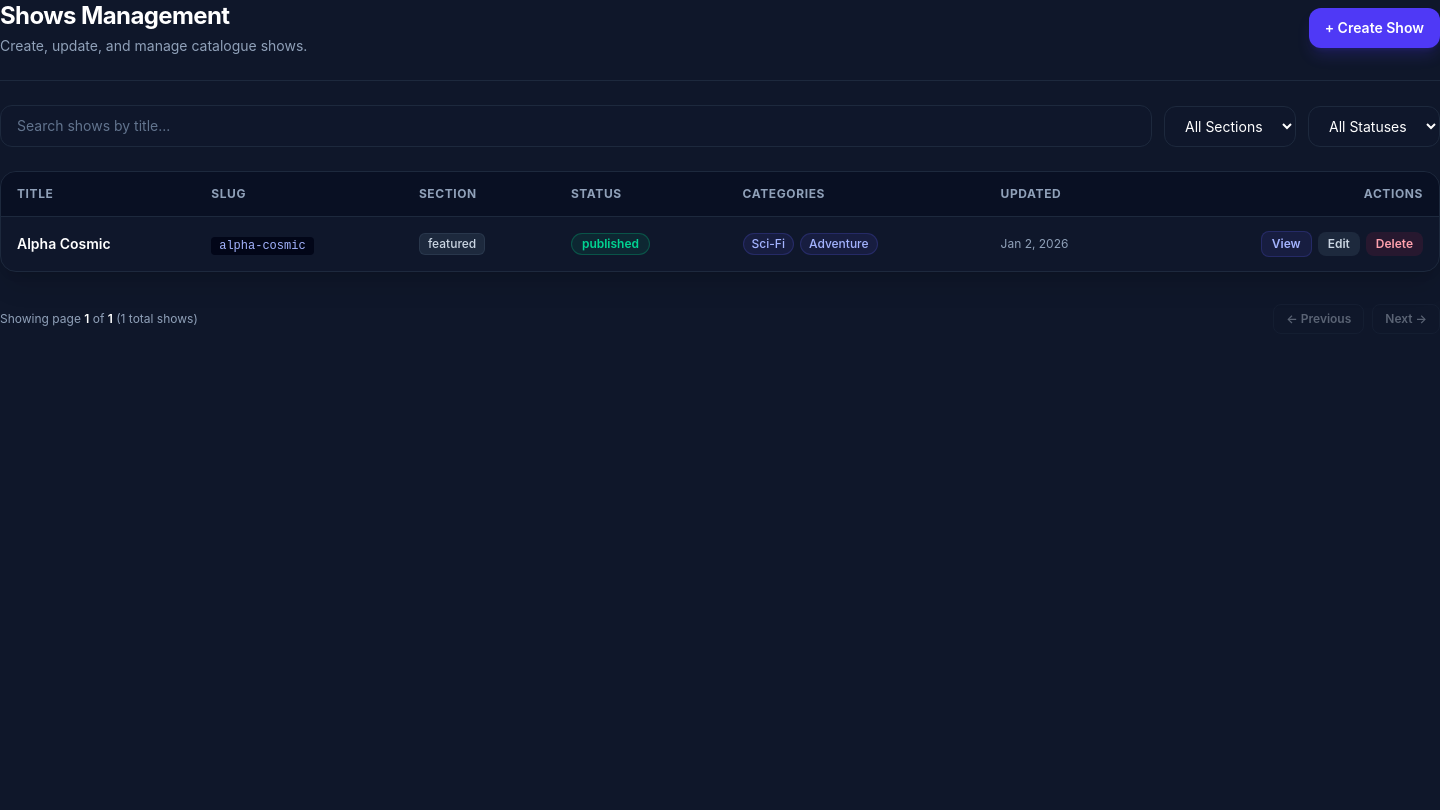
Test: Shows Management Page › deletes a show after confirmation
Expected: the link "Alpha Cosmic" is shown, [17,235,111,252]
Click the button with test id "delete-show-1" at [1394, 244], box [1366,232,1423,256]
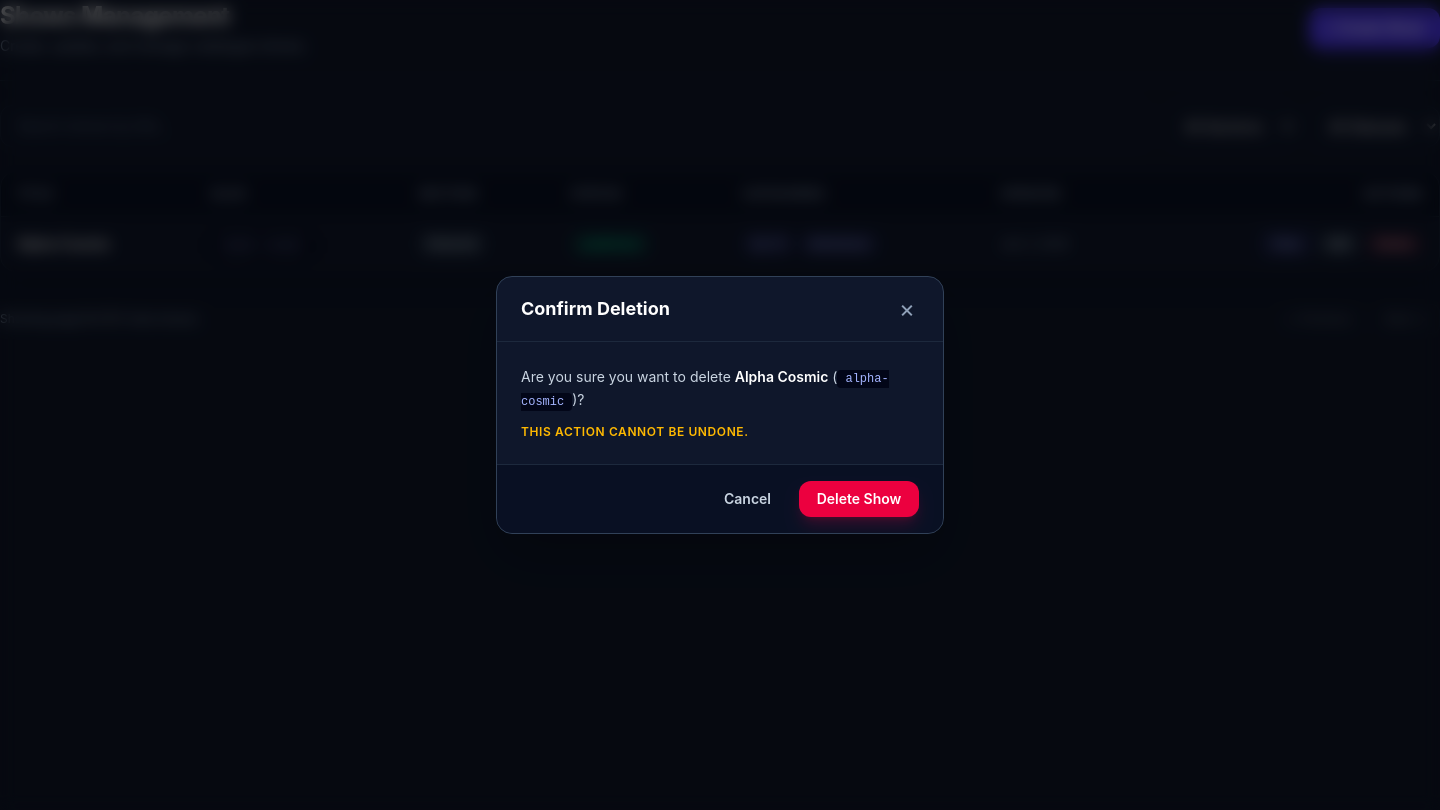
Expected: the heading "Confirm Deletion" is shown, [521,295,670,323]
Expected: the text "Are you sure you want to delete Alpha Cosmic (alpha-cosmic)?" is shown, [521,366,919,412]
Click the button with test id "confirm-delete-btn" at [859, 499], box [799,481,919,517]
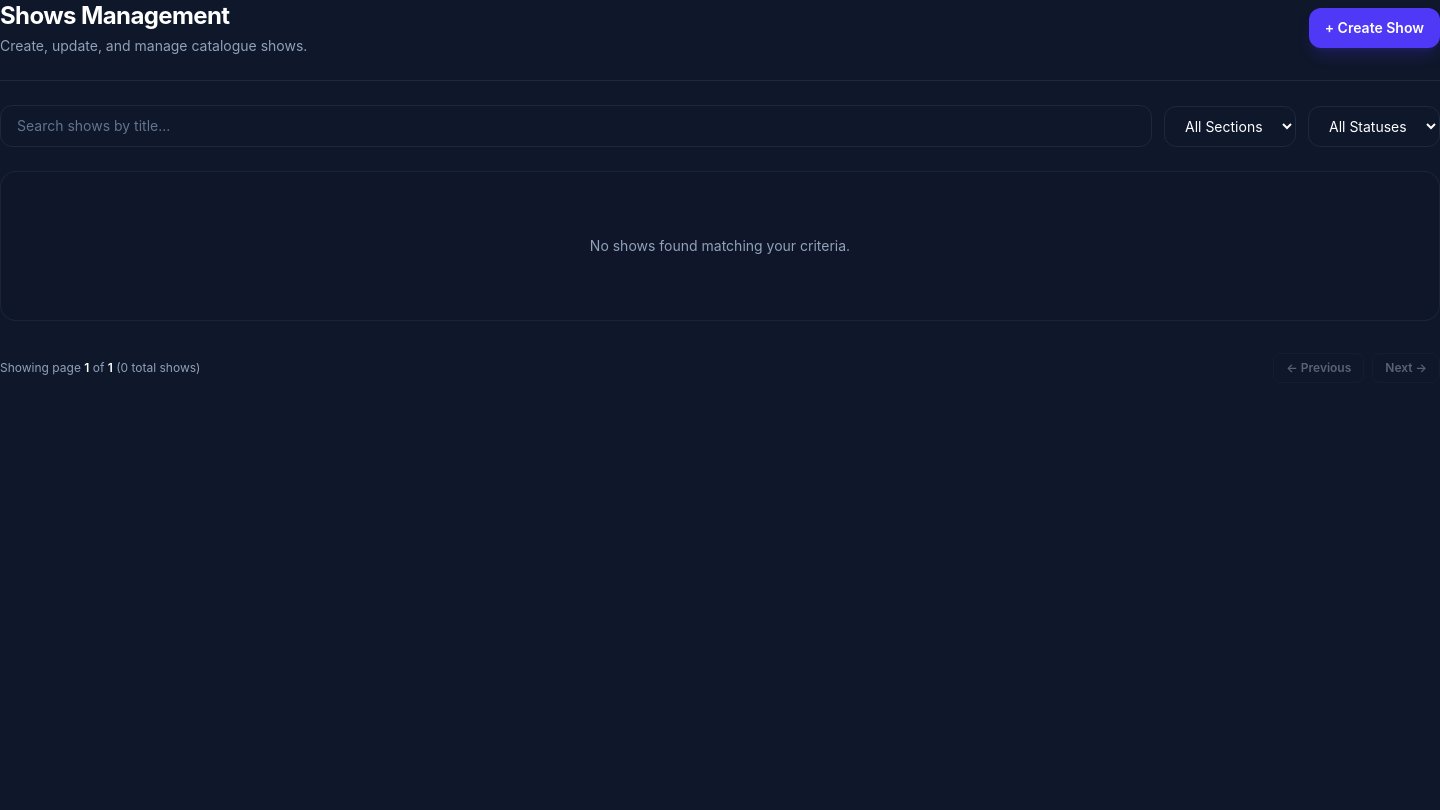
Expected: the element with test id "shows-empty" is shown, [0,171,1439,321]
